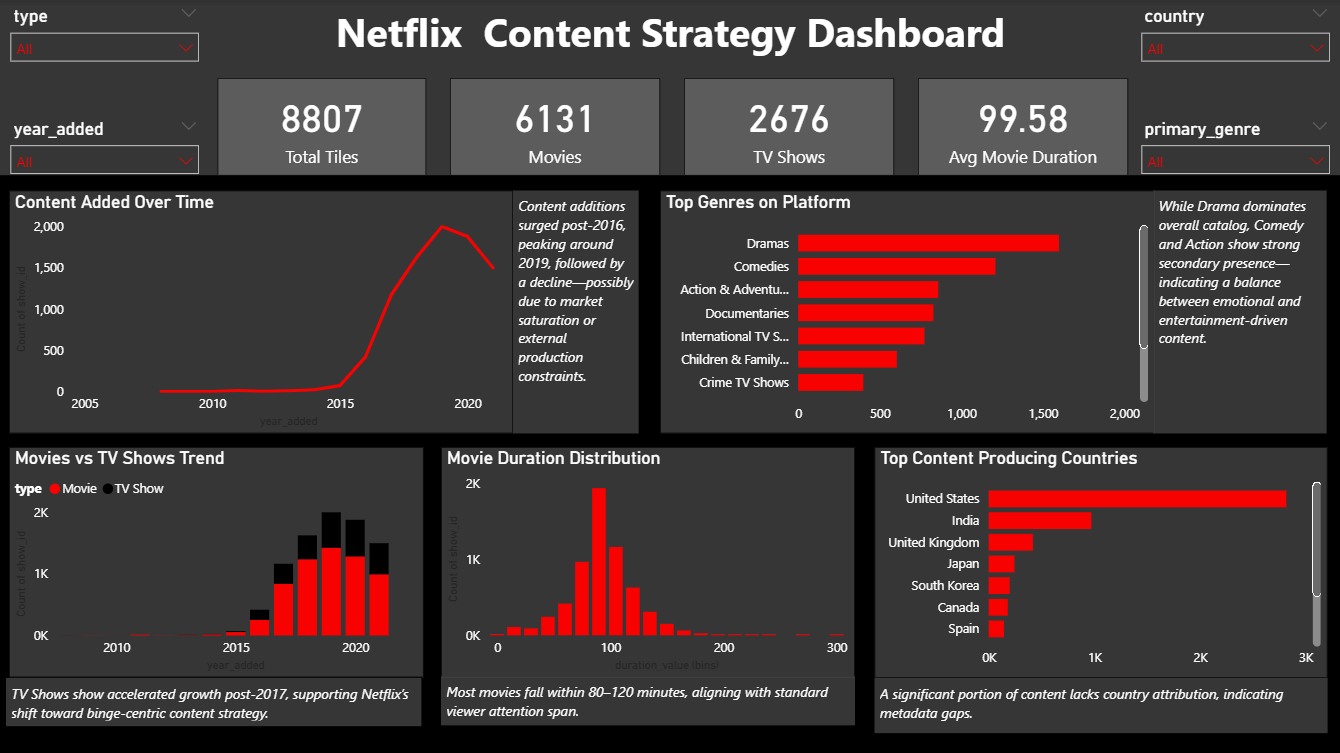

The page's visual inventory and layout, read from the dashboard file:
{"tool":"powerbi","page":{"name":"Netflix  Content Strategy Dashboard","canvas":[1280,720],"ordinal":0},"visuals":[{"type":"textbox","box":[0,0,1280.6,167.6],"z":0},{"type":"card","fields":{"Values":["netflix_cleaned.Total Tiles"]},"box":[208.3,74.5,199.1,93.1],"z":1000},{"type":"card","fields":{"Values":["netflix_cleaned.TV Shows"]},"box":[653.7,74.5,200.5,93.1],"z":2000},{"type":"card","fields":{"Values":["netflix_cleaned.Avg Movie Duration"]},"box":[877.2,74.5,200.5,93.1],"z":3000},{"type":"card","fields":{"Values":["netflix_cleaned.Movies"]},"box":[430.3,74.5,200.5,93.1],"z":4000},{"type":"slicer","fields":{"Values":["netflix_cleaned.year_added"]},"box":[0,107.4,200,60.2],"z":5000},{"type":"lineChart","title":"Content Added Over Time","fields":{"Y":["CountNonNull(netflix_cleaned.show_id)"],"Category":["netflix_cleaned.year_added"]},"box":[8.6,181.9,481.3,232],"z":5000,"group":"g3"},{"type":"slicer","fields":{"Values":["netflix_cleaned.primary_genre"]},"box":[1079.4,107.4,200,60.2],"z":6000},{"type":"columnChart","title":"Movies vs TV Shows Trend","fields":{"Y":["CountNonNull(netflix_cleaned.show_id)"],"Category":["netflix_cleaned.year_added"],"Series":["netflix_cleaned.type"]},"box":[8.6,426.9,396,220],"z":6000,"group":"g1"},{"type":"slicer","fields":{"Values":["netflix_cleaned.country"]},"box":[1079.4,0,200,60.2],"z":7000},{"type":"barChart","title":"Top Content Producing Countries","fields":{"Category":["netflix_cleaned.country"],"Y":["CountNonNull(netflix_cleaned.show_id)"]},"box":[835.1,426.9,432.6,220.6],"z":7000,"group":"g5"},{"type":"slicer","fields":{"Values":["netflix_cleaned.type"]},"box":[0,0,200,60.2],"z":8000},{"type":"barChart","title":"Top Genres on Platform","fields":{"Category":["netflix_cleaned.primary_genre"],"Y":["CountNonNull(netflix_cleaned.show_id)"]},"box":[630.3,181.9,472.3,231.9],"z":8000,"group":"g4"},{"type":"group","id":"g1","title":"Group 1","box":[6.3,426.9,398.3,266.6],"z":9000},{"type":"columnChart","title":"Movie Duration Distribution","fields":{"Category":["netflix_cleaned.duration_value (bins)"],"Y":["CountNonNull(netflix_cleaned.show_id)"]},"box":[421.1,426.9,395.3,219.8],"z":9000,"group":"g2"},{"type":"group","id":"g2","title":"Group 2","box":[421.1,426.9,395.3,266.4],"z":10000},{"type":"group","id":"g3","title":"Group 4","box":[8.6,181.9,601.6,232],"z":11000},{"type":"group","id":"g4","title":"Group 3","box":[630.3,181.9,637.4,232],"z":12000},{"type":"group","id":"g5","title":"Group 5","box":[835.1,426.9,432.6,273.6],"z":13000},{"type":"textbox","box":[489.9,181.9,120.3,232],"z":14000,"group":"g3"},{"type":"textbox","box":[1102.2,182,165.5,231.9],"z":15000,"group":"g4"},{"type":"textbox","box":[835.1,647.5,432.6,53],"z":16000,"group":"g5"},{"type":"textbox","box":[6.3,647.7,396.8,45.8],"z":17000,"group":"g1"},{"type":"textbox","box":[421.1,646.7,395.3,46.6],"z":18000,"group":"g2"}]}

Visuals, with their boxes in screenshot pixels (x1, y1, x2, y2), scaled from the page's 1280x720 canvas onto the 1340x753 screenshot:
textbox: BBox(0, 0, 1339, 175)
card - netflix_cleaned.Total Tiles: BBox(218, 78, 426, 175)
card - netflix_cleaned.TV Shows: BBox(684, 78, 894, 175)
card - netflix_cleaned.Avg Movie Duration: BBox(918, 78, 1128, 175)
card - netflix_cleaned.Movies: BBox(450, 78, 660, 175)
slicer - netflix_cleaned.year_added: BBox(0, 112, 209, 175)
"Content Added Over Time" lineChart: BBox(9, 190, 513, 433)
slicer - netflix_cleaned.primary_genre: BBox(1130, 112, 1339, 175)
"Movies vs TV Shows Trend" columnChart: BBox(9, 446, 424, 677)
slicer - netflix_cleaned.country: BBox(1130, 0, 1339, 63)
"Top Content Producing Countries" barChart: BBox(874, 446, 1327, 677)
slicer - netflix_cleaned.type: BBox(0, 0, 209, 63)
"Top Genres on Platform" barChart: BBox(660, 190, 1154, 433)
"Group 1" group: BBox(7, 446, 424, 725)
"Movie Duration Distribution" columnChart: BBox(441, 446, 855, 676)
"Group 2" group: BBox(441, 446, 855, 725)
"Group 4" group: BBox(9, 190, 639, 433)
"Group 3" group: BBox(660, 190, 1327, 433)
"Group 5" group: BBox(874, 446, 1327, 733)
textbox: BBox(513, 190, 639, 433)
textbox: BBox(1154, 190, 1327, 433)
textbox: BBox(874, 677, 1327, 733)
textbox: BBox(7, 677, 422, 725)
textbox: BBox(441, 676, 855, 725)
